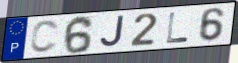2: (129, 12, 160, 49)
6: (63, 14, 96, 55), (198, 6, 227, 43)
C: (28, 19, 62, 55)
J: (98, 15, 125, 50)
L: (165, 11, 190, 45)
